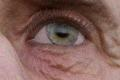eye: (47, 22, 78, 45)
